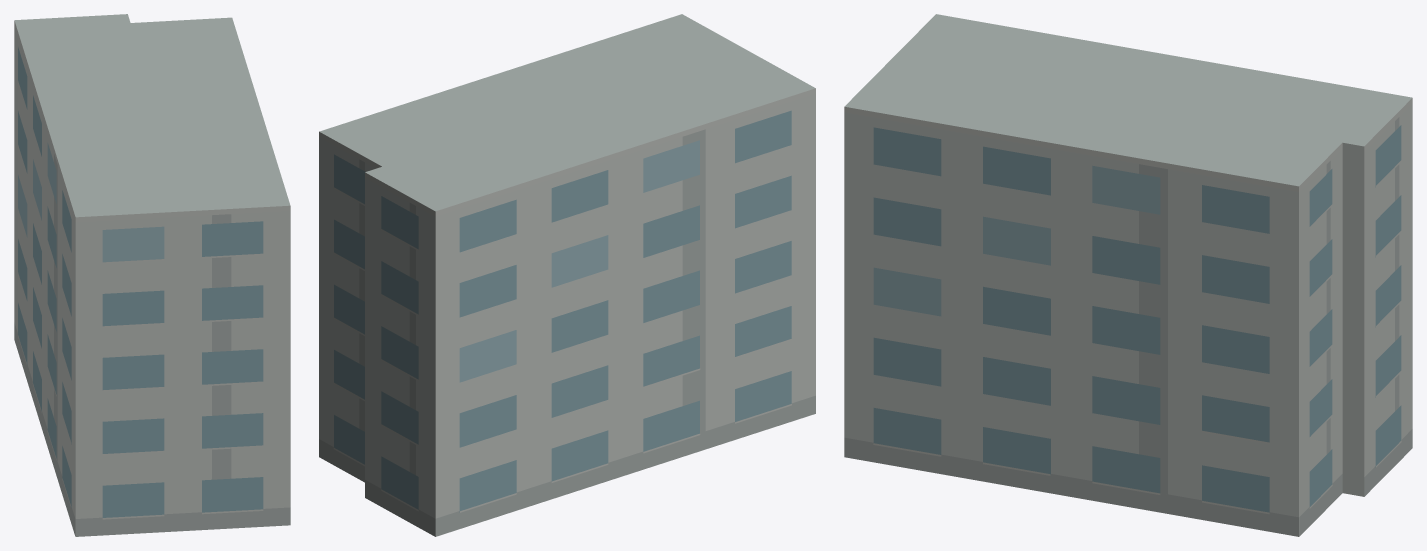
Rendered from survey-upis-32554871.glb.
3 views of the same model, side by side, from view 1: azimuth 30°, elevation 25°; view 2: azimuth 150°, elevation 25°; view 3: azimuth 270°, elevation 25° (orthographic). The views are drawn at different scales.
Visible parts, largest first — view 1: survey-upis-32554871.tmp; view 2: survey-upis-32554871.tmp; view 3: survey-upis-32554871.tmp.
Part boxes in pixels (x1,y1,x2,y2): survey-upis-32554871.tmp: [14, 14, 290, 536]; survey-upis-32554871.tmp: [319, 14, 815, 536]; survey-upis-32554871.tmp: [844, 14, 1412, 536].
Size of the model in its own units: 15.62 by 14.8 by 21.76.
